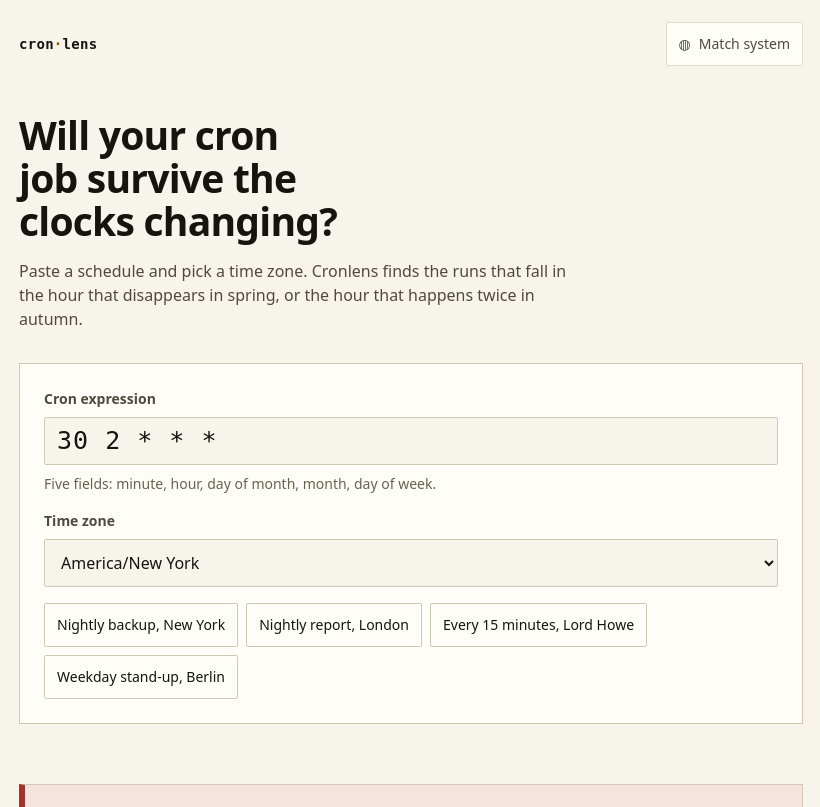
Cronlens › reads the expression in plain English
In the field labelled "Cron expression": [411, 441] box [44,417,778,465], type "0 9 * * 1-5"
(page scrolled)
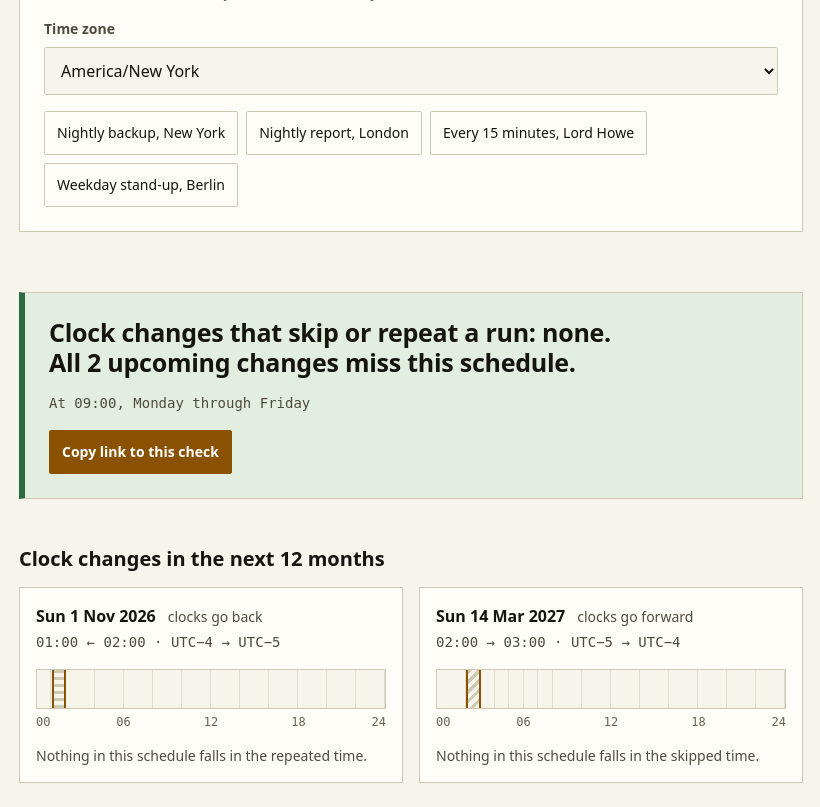
Now the text "At 09:00, Monday through Friday" is shown, box [49,393,310,414]
